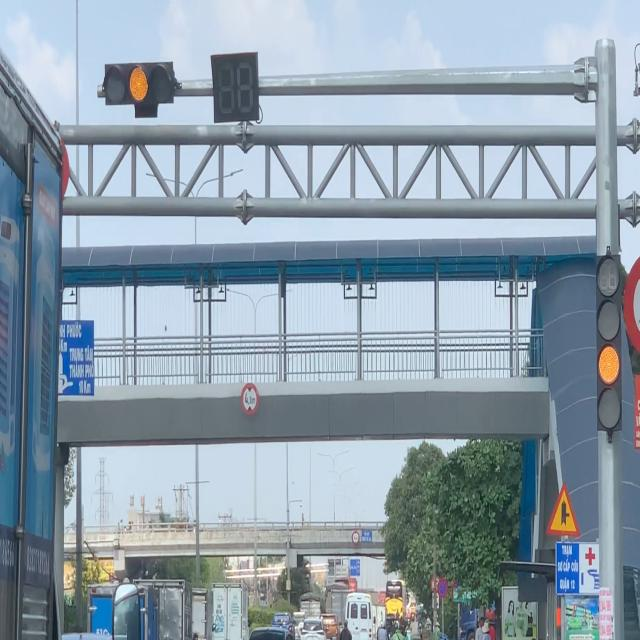Cam dung va do: (437, 578, 449, 599)
Chieu cao toi da: (240, 380, 258, 418)
Giao voi duong khong uu tien: (545, 480, 582, 541)
